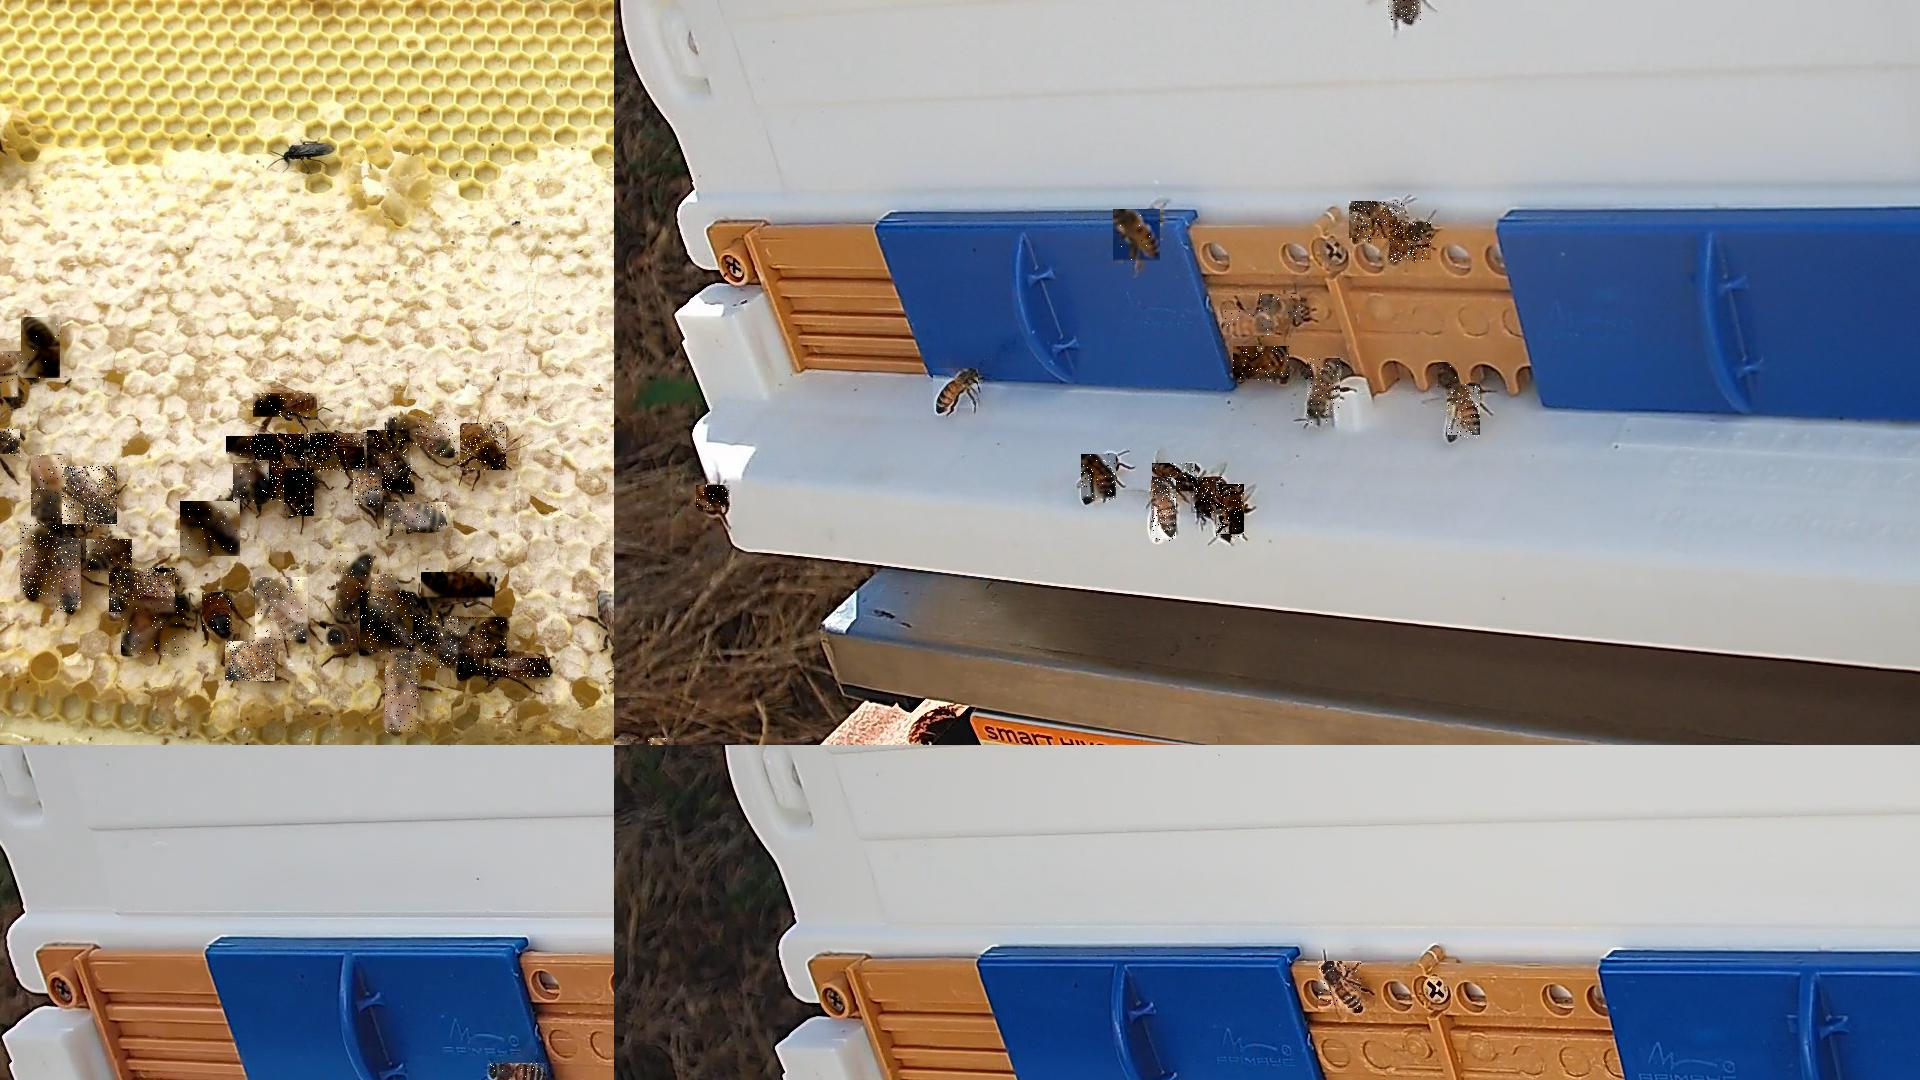bee: (121, 599, 189, 657), (181, 501, 241, 558), (62, 467, 117, 529), (109, 568, 179, 617), (256, 578, 309, 642), (256, 435, 305, 502), (361, 593, 415, 653), (20, 525, 62, 597), (409, 616, 465, 669), (458, 617, 508, 676), (368, 431, 414, 493), (389, 417, 458, 458), (385, 653, 419, 735), (1113, 210, 1162, 264), (21, 318, 62, 380), (336, 553, 375, 618), (1349, 202, 1406, 243), (1307, 359, 1341, 426), (32, 456, 67, 521), (307, 434, 365, 473), (460, 423, 508, 471), (1319, 961, 1362, 1013), (421, 572, 496, 601), (225, 641, 276, 682), (1233, 347, 1290, 382), (934, 369, 980, 411), (385, 502, 447, 533), (1447, 385, 1481, 439), (57, 539, 82, 613), (227, 436, 313, 458), (1390, 223, 1432, 264), (86, 539, 133, 575), (1081, 455, 1117, 501), (1151, 481, 1178, 543), (253, 393, 318, 418), (1216, 485, 1245, 539), (1153, 464, 1200, 496), (1224, 310, 1278, 336), (372, 575, 401, 624), (233, 464, 270, 502), (285, 471, 315, 517), (203, 593, 236, 634), (484, 658, 551, 678), (1191, 477, 1224, 517), (597, 589, 613, 669), (1261, 295, 1303, 323), (0, 351, 22, 402), (353, 471, 384, 506), (487, 1063, 549, 1079), (696, 485, 732, 510), (326, 625, 359, 651), (1389, 0, 1423, 22), (0, 429, 25, 459), (1439, 363, 1460, 394)
